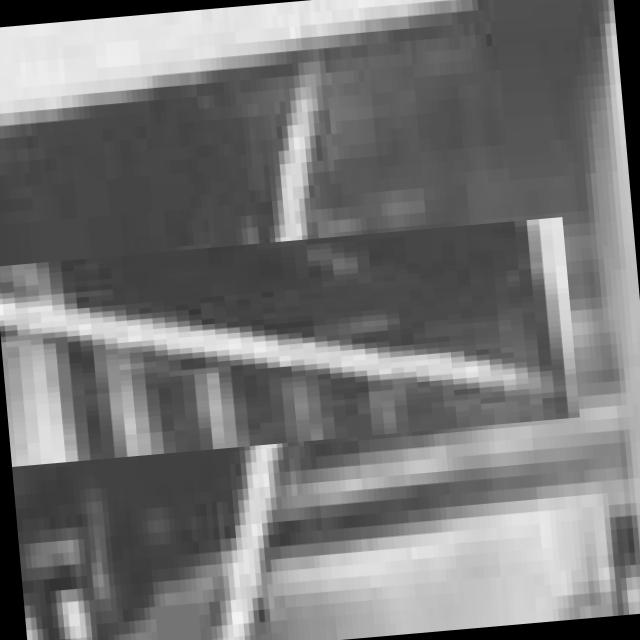stick: (53, 125, 488, 560)
